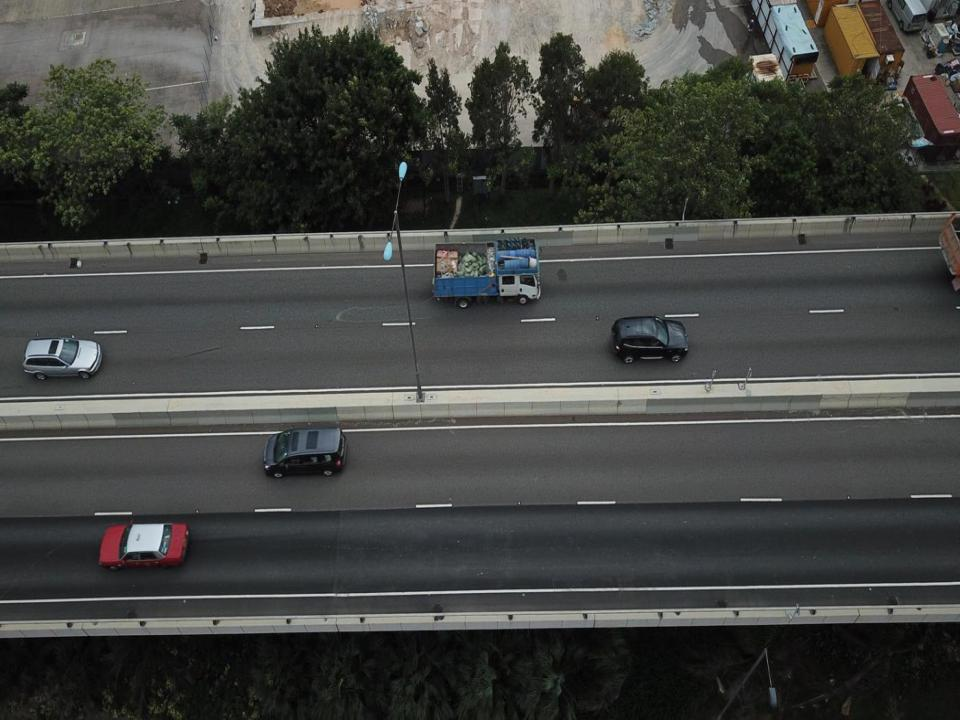car: (261, 423, 348, 479), (98, 516, 189, 569), (609, 312, 690, 364), (21, 335, 103, 381)
truck: (431, 236, 545, 308)
